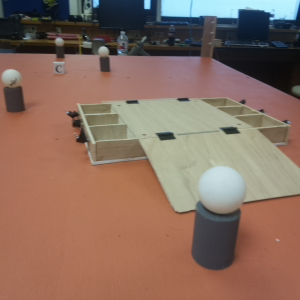blockC: (53, 60, 67, 75)
corner: (202, 15, 214, 55)
obstacle: (193, 166, 240, 267), (4, 69, 24, 110), (99, 45, 110, 70), (54, 38, 64, 57)
side: (66, 98, 133, 169)
slope: (137, 130, 300, 209)
